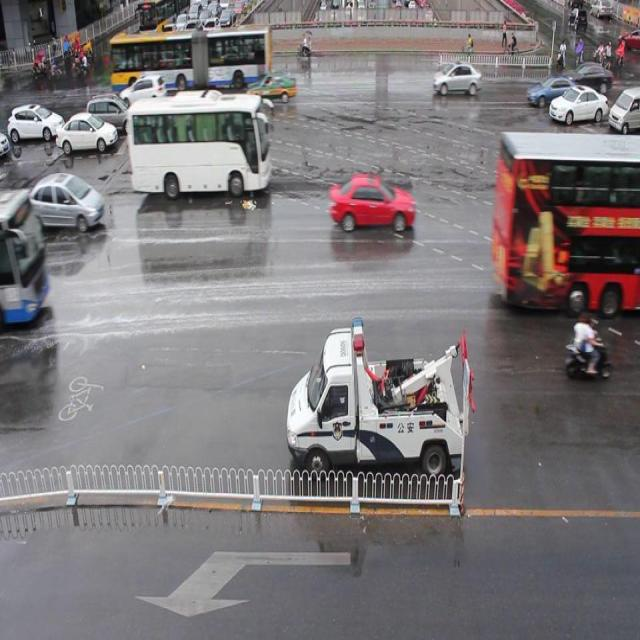car: (330, 170, 414, 233), (548, 82, 606, 123), (558, 59, 610, 93), (524, 74, 576, 105), (433, 61, 480, 94), (247, 71, 296, 101)
van: (496, 132, 640, 304), (128, 96, 270, 191), (110, 30, 268, 90)
